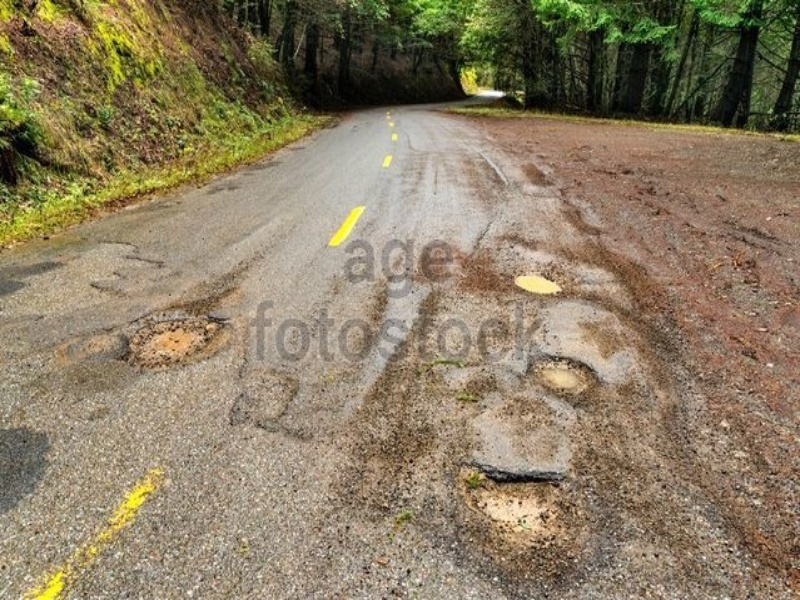pothole: (450, 463, 579, 540), (119, 314, 221, 377), (516, 346, 599, 410), (512, 273, 565, 297)
